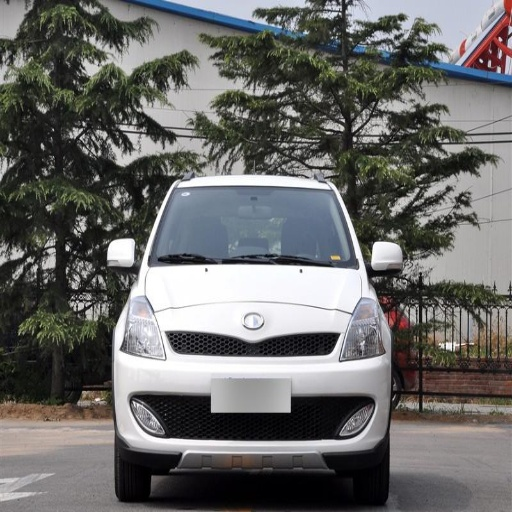front_bumper: (116, 311, 389, 469)
front_right_light: (120, 297, 164, 359)
hood: (144, 266, 367, 313)
left_mirror: (369, 241, 406, 278)
